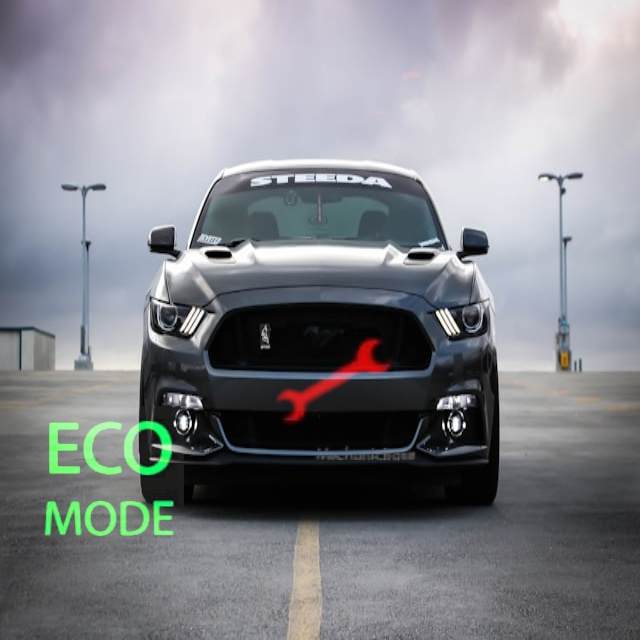symbol: (293, 14, 492, 213), (248, 295, 422, 469), (34, 406, 184, 556)
